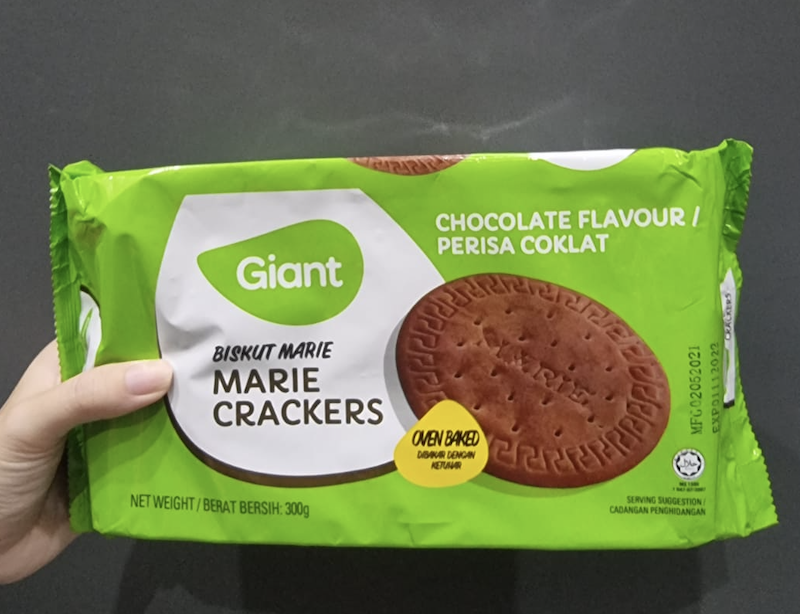Halal: (677, 454, 700, 470)
